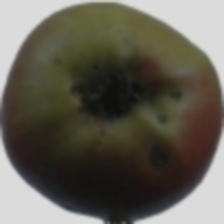apple: (47, 27, 182, 202)
